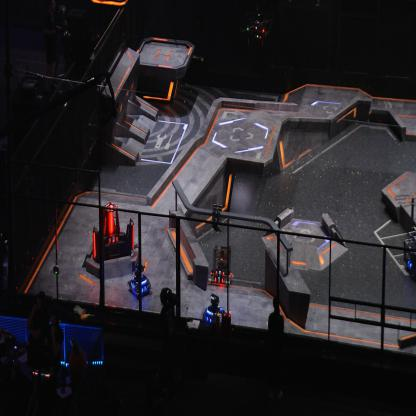car: (209, 242, 234, 287), (126, 263, 151, 298), (201, 294, 226, 326), (403, 224, 416, 278)
